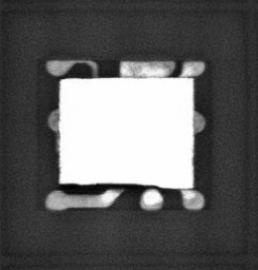DIE_BROKEN: (56, 180, 163, 190)
